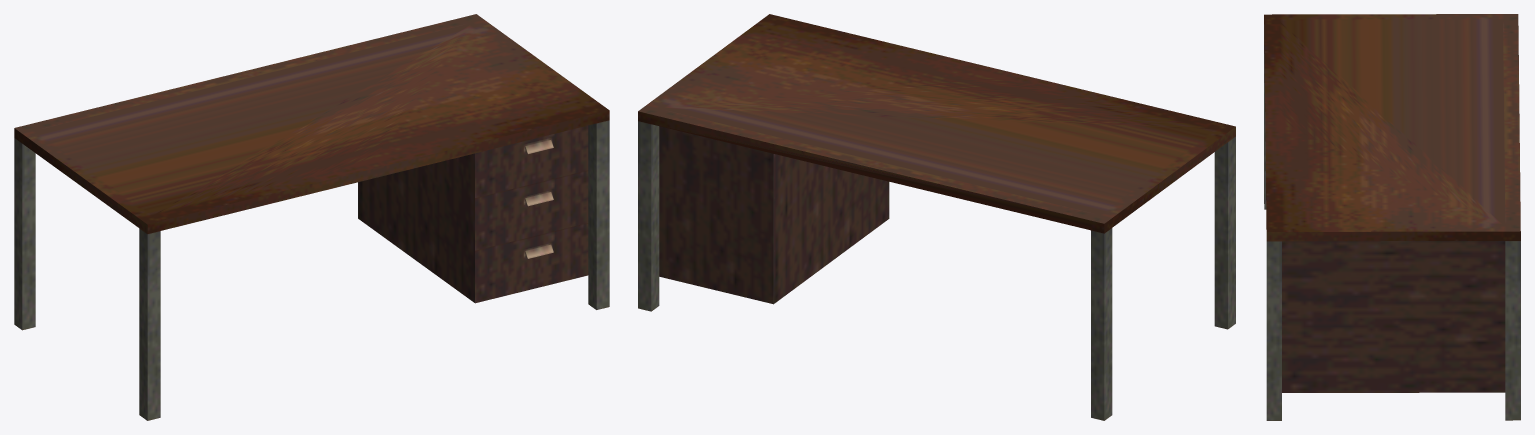
The model's file is desk2_alt2.obj.
3 views of the same model, side by side, from view 1: azimuth 30°, elevation 25°; view 2: azimuth 150°, elevation 25°; view 3: azimuth 270°, elevation 25° (orthographic). The views are drawn at different scales.
Parts seen in each view (by area): view 1: desk2_alt2; view 2: desk2_alt2; view 3: desk2_alt2.
Part boxes in pixels (left/top/right/bottom): desk2_alt2: left=14, top=14, right=609, bottom=420; desk2_alt2: left=638, top=14, right=1235, bottom=420; desk2_alt2: left=1264, top=14, right=1520, bottom=420.
Bounding box in the file's own units: 2.21 × 0.8911 × 1.1.
